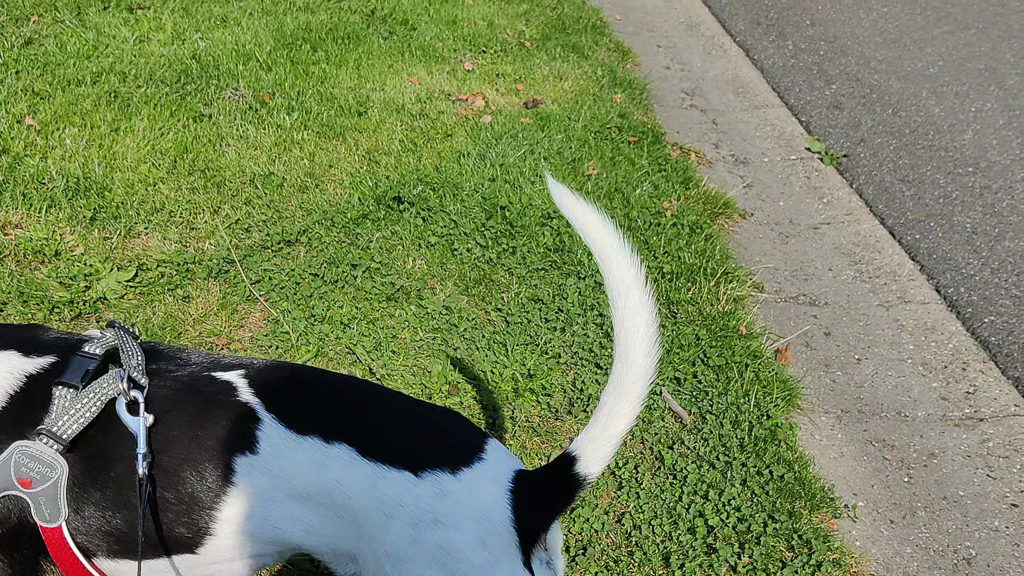Dog: (0, 152, 676, 576)
